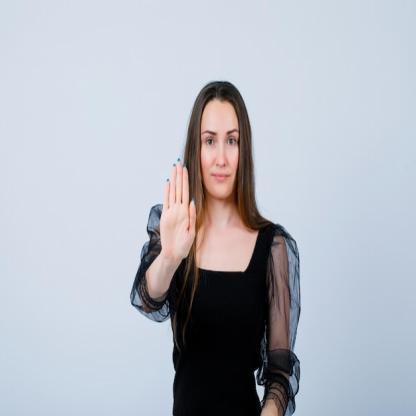stop: (158, 156, 198, 266)
